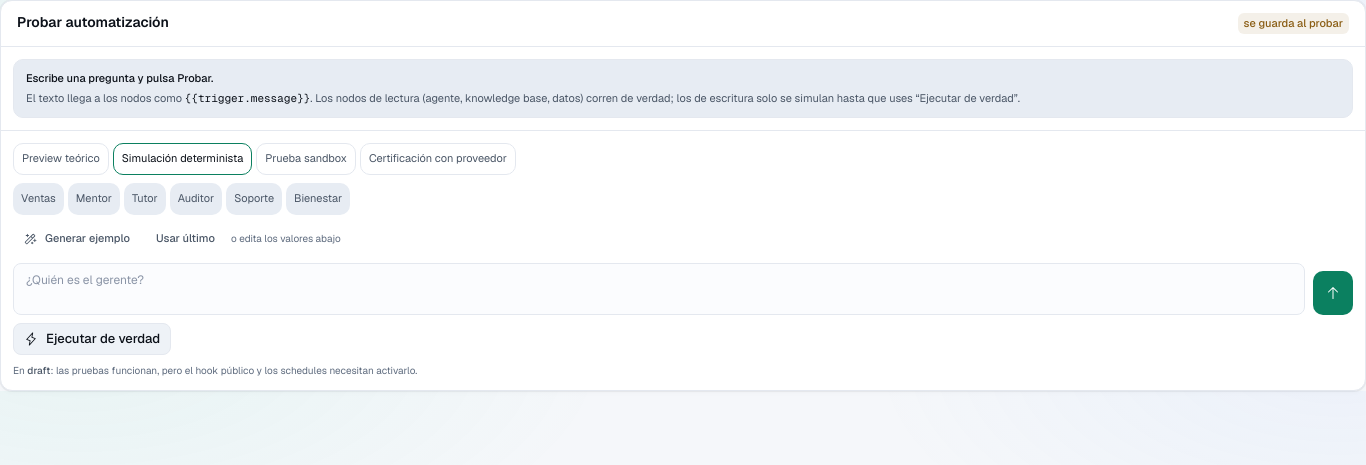
Test: WorkflowTestPanel (dock de prueba) › no ejecuta si el guardado previo falla
The width and height of the screenshot is (1366, 465).
In the text box with test id "wf-test-payload": (659, 289) [13,262,1305,315], type "hola"
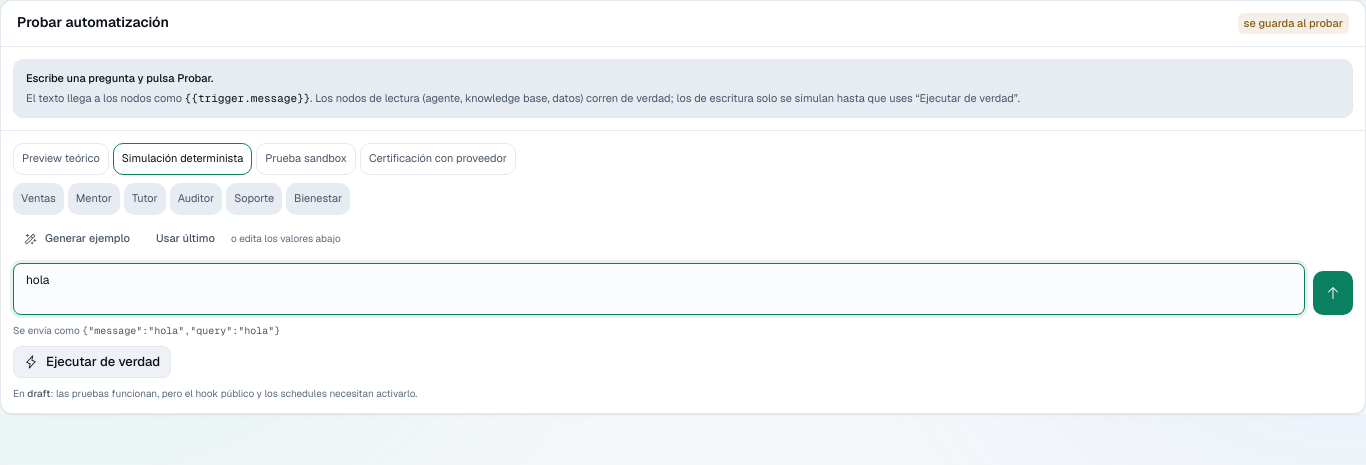
Click the button with test id "wf-run": click(92, 362) [13,346,171,378]
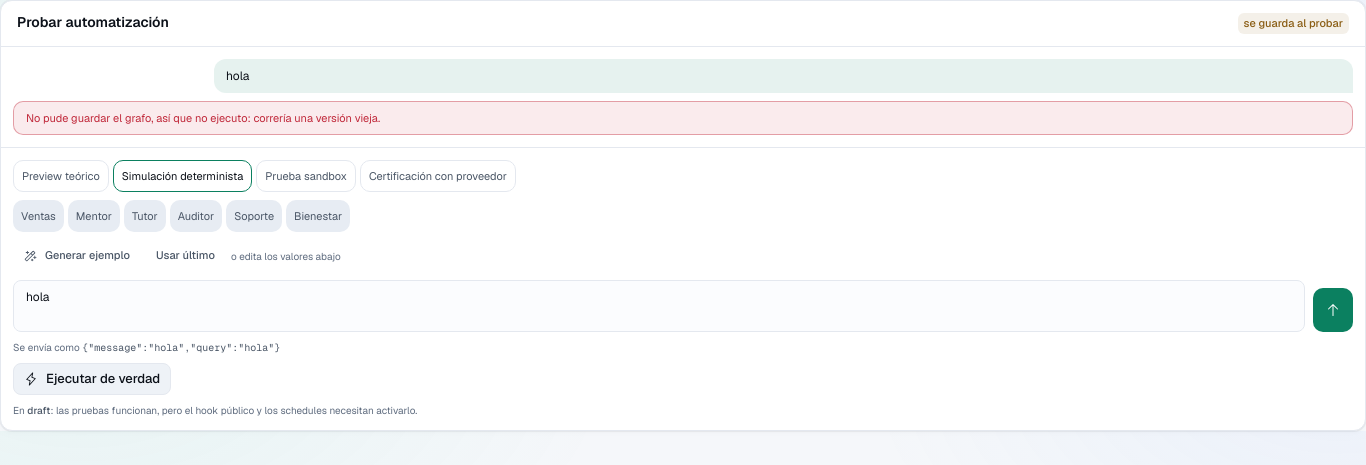
Now the text with test id "wf-chat-system" shows "No pude guardar el grafo", box [26,110,380,124]
